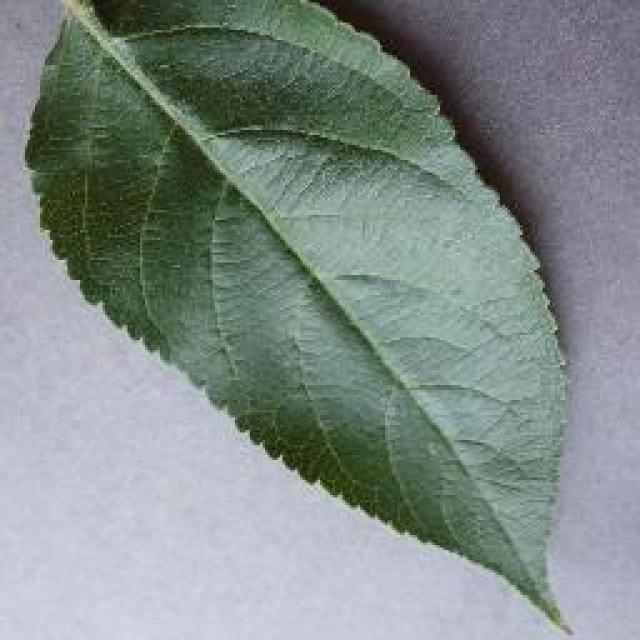apple healthy: (23, 0, 575, 635)
